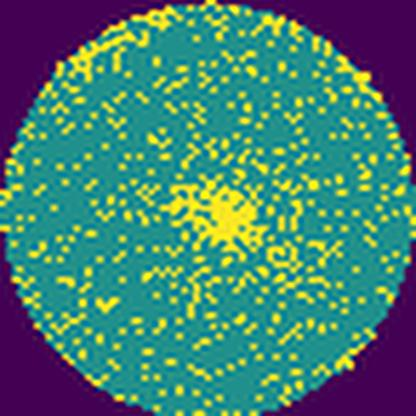Center: (169, 176, 270, 258)
